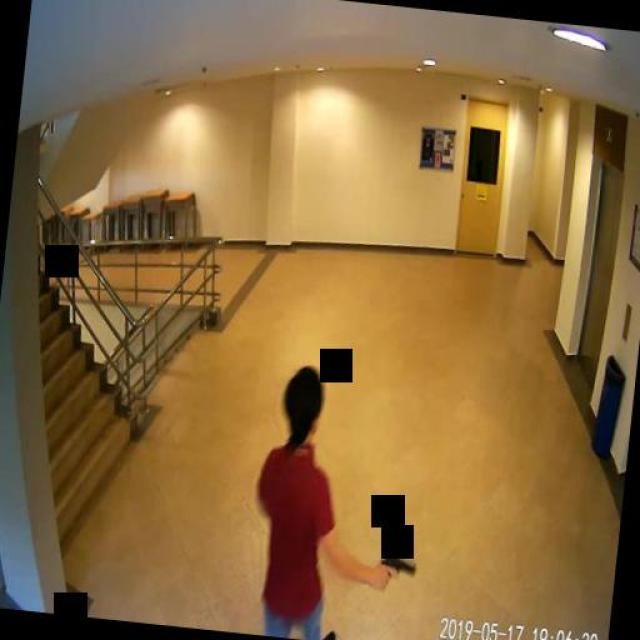gun: (378, 548, 417, 592)
